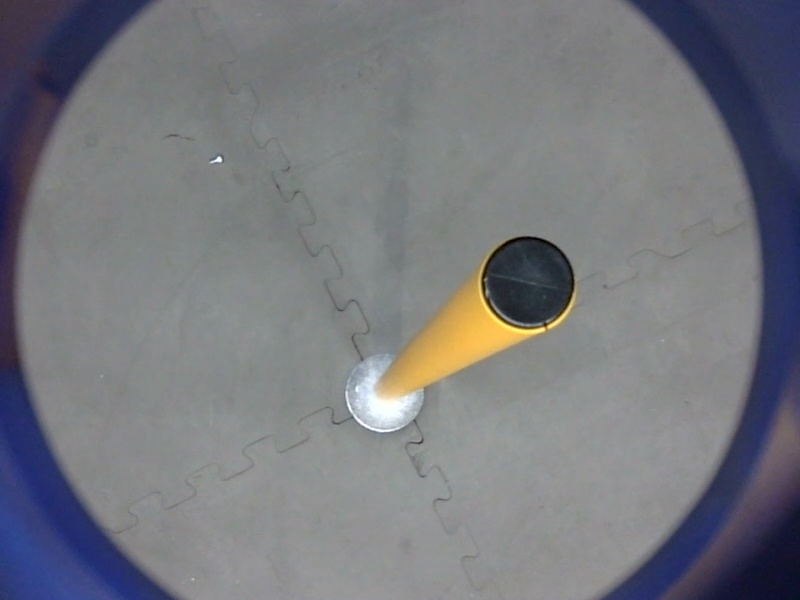tip: (474, 229, 582, 337)
